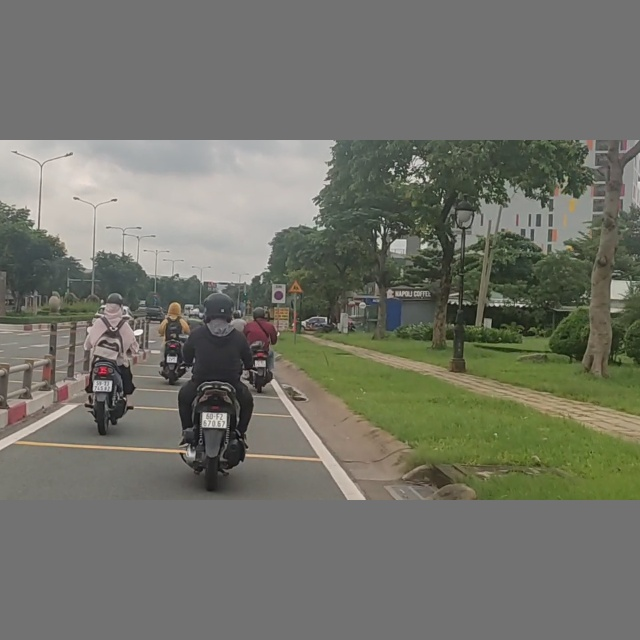P.130: (274, 291, 284, 300)
W.225: (288, 280, 304, 294)
